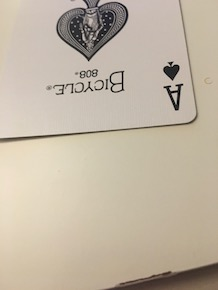AceOfSpades: (1, 1, 200, 143)
